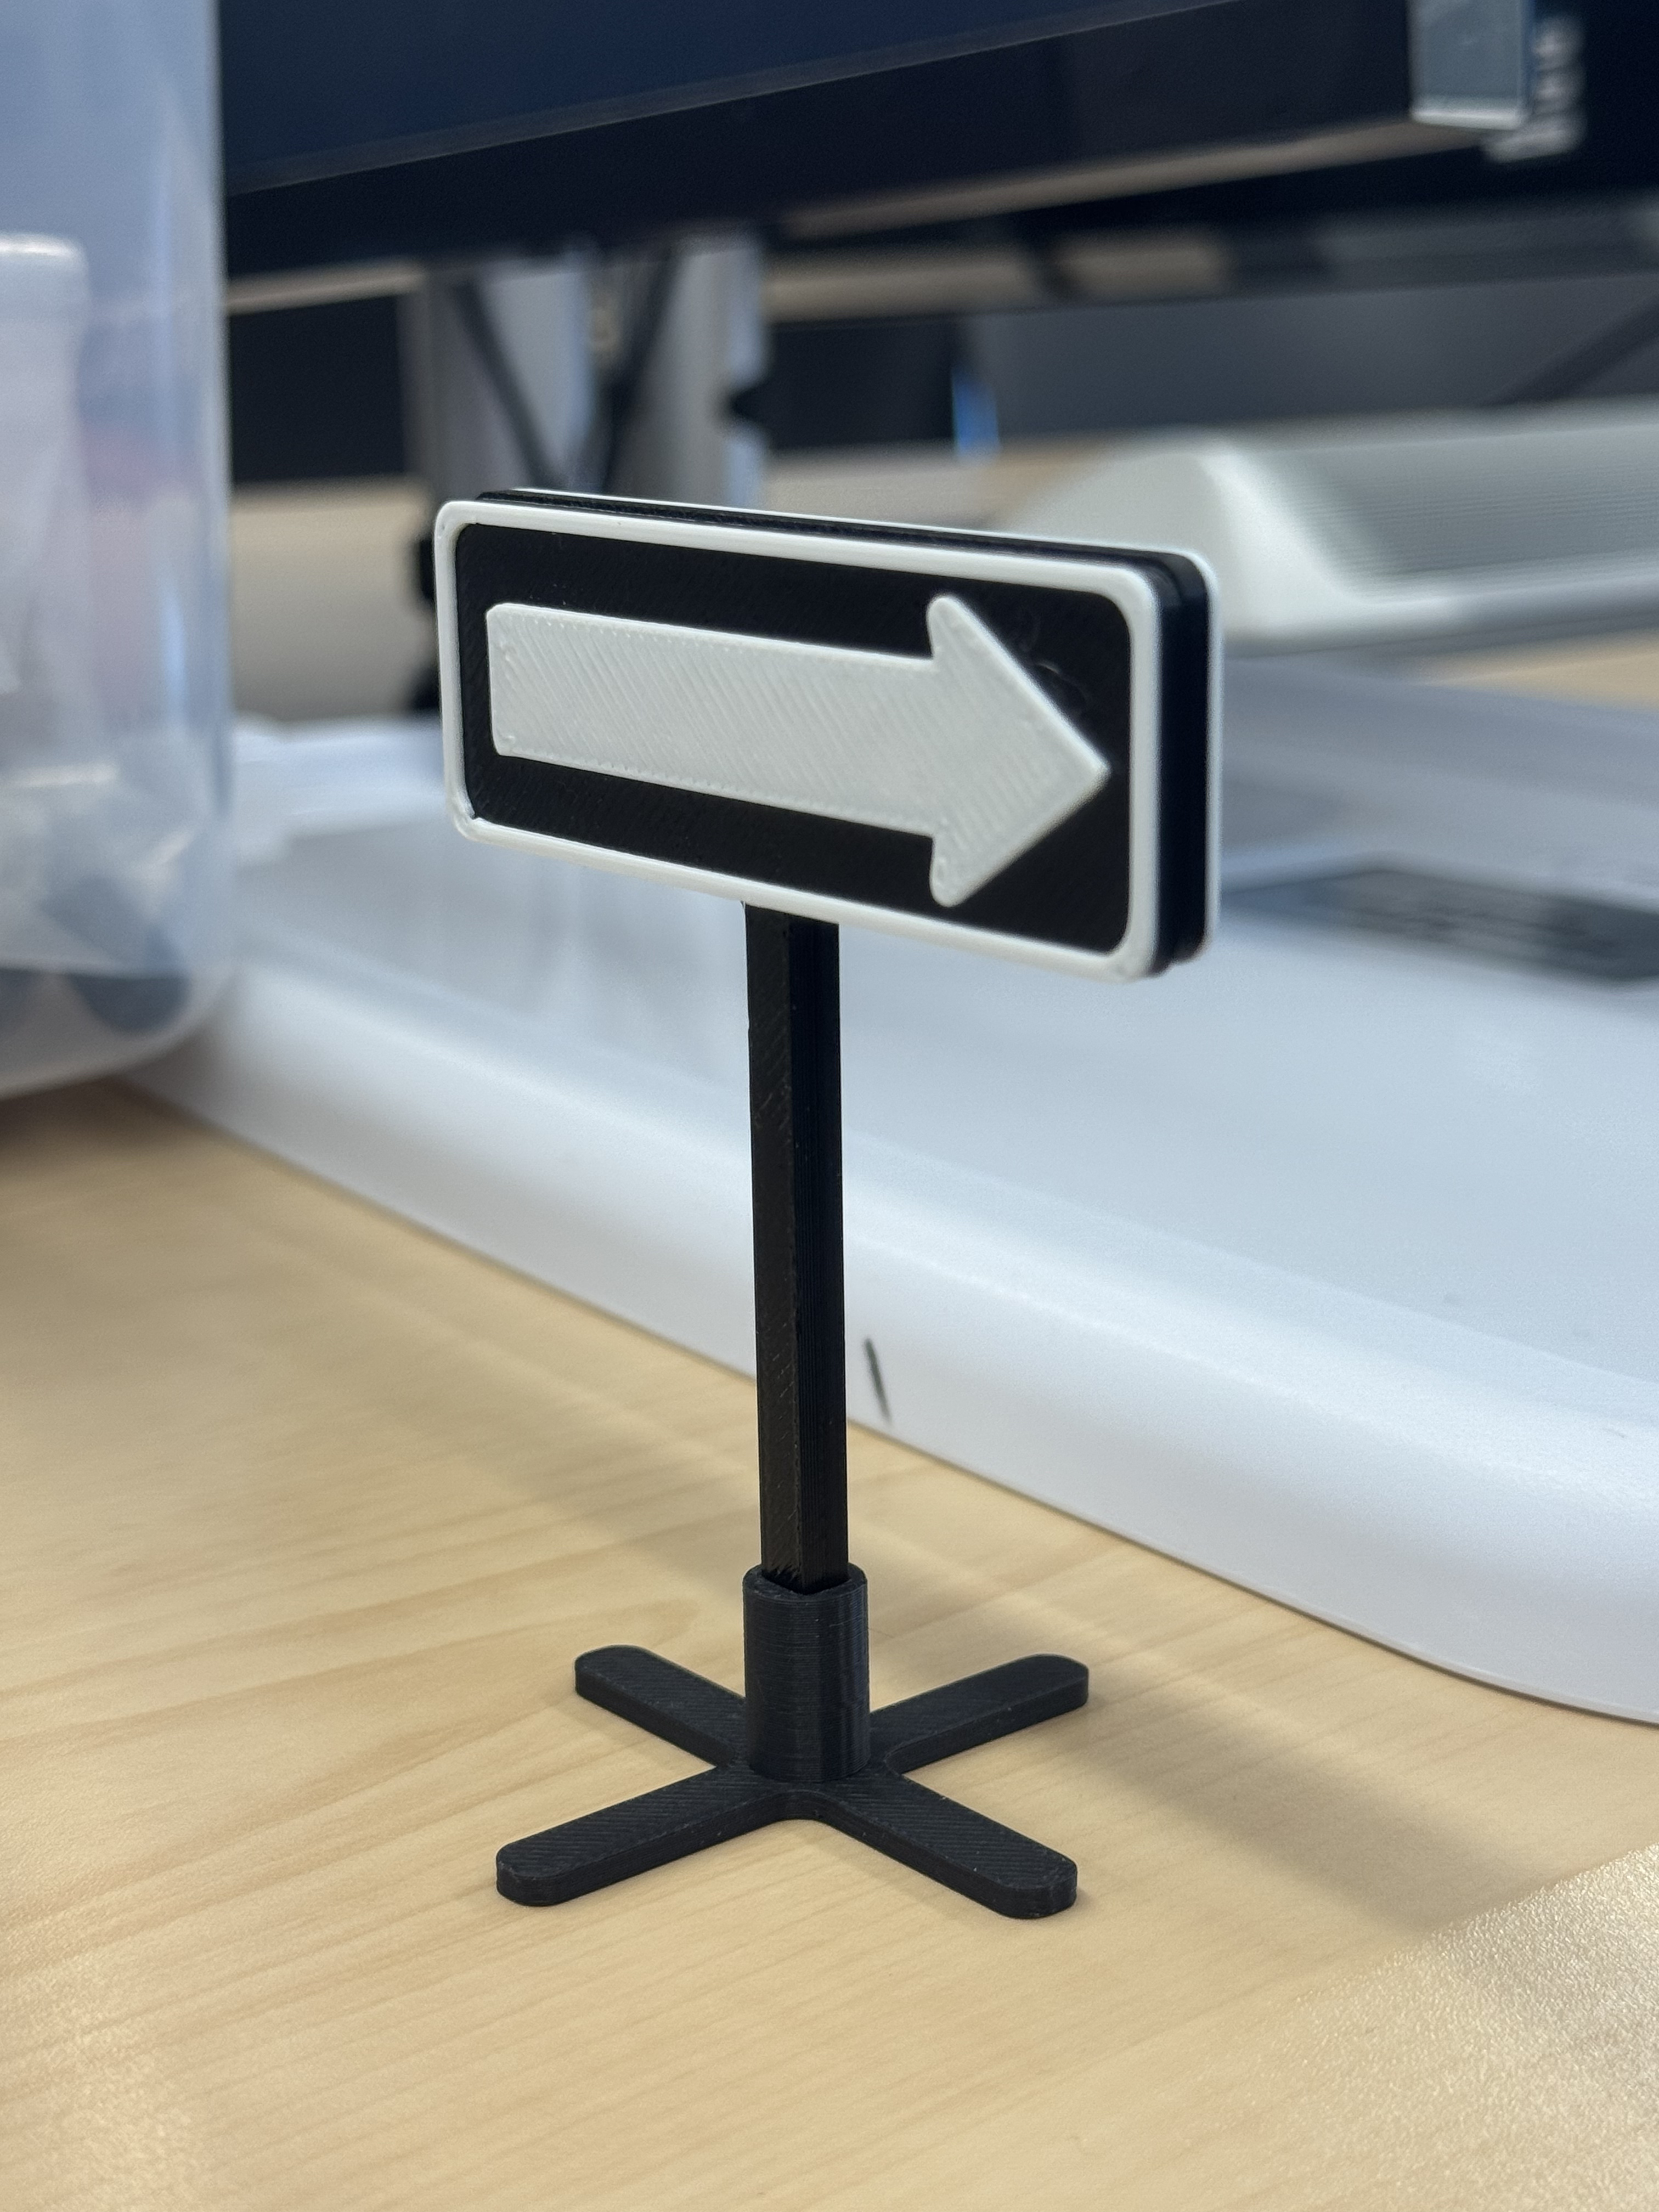sign_oneway_right: (429, 493, 1222, 1928)
